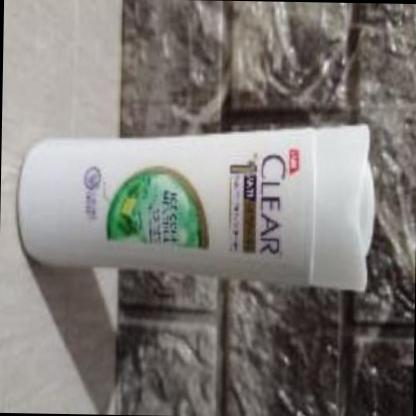objects: (14, 116, 378, 296)
